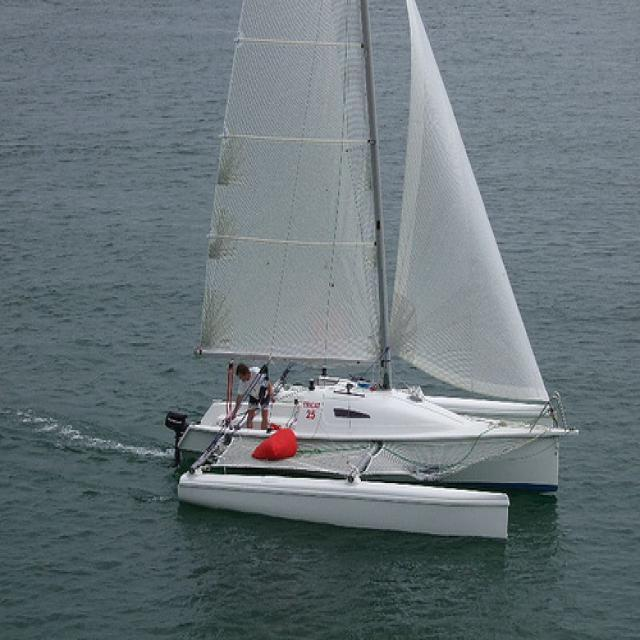Ship: (175, 1, 564, 545)
